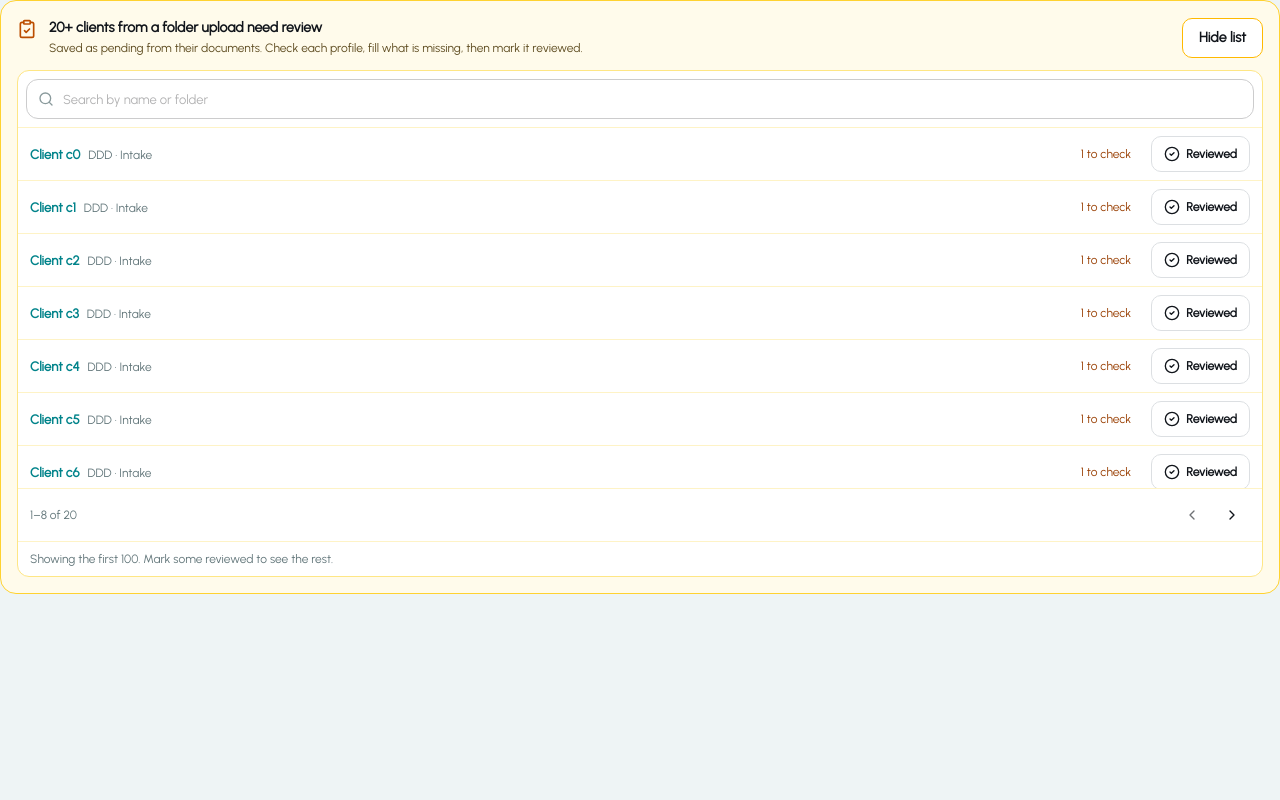
Test: a big batch is paged and searchable instead of one long list
Expected: the heading "20+ clients from a folder upload need review" is shown, [49, 19, 322, 36]
Expected: the text "1–8 of 20" is shown, [30, 506, 77, 524]
Click the button named "Next page": (1232, 515) [1214, 497, 1250, 533]
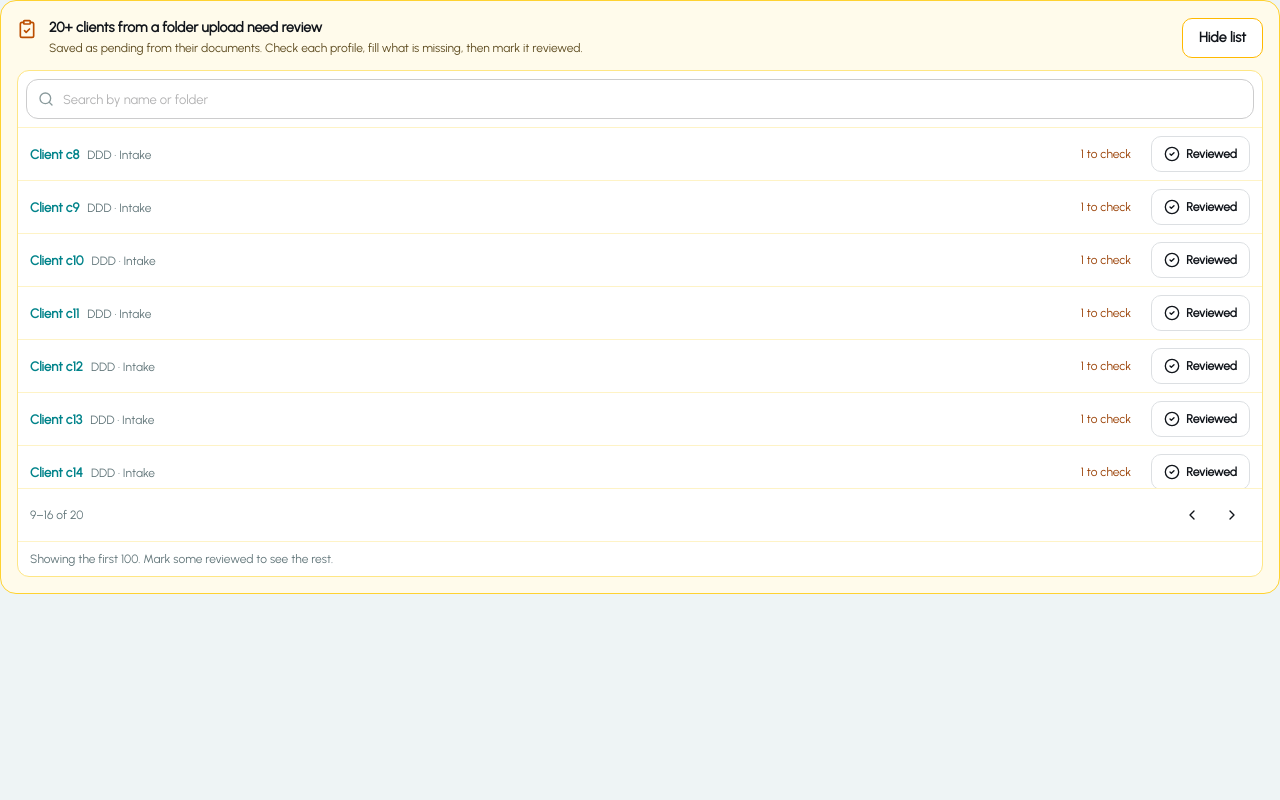
Expected: the text "9–16 of 20" is shown, [30, 506, 83, 524]
Expected: the link "Client c8" is shown, [30, 147, 79, 162]
In the field with placeholder "Search by name or folder": (640, 99) [26, 79, 1254, 119], type "c19"
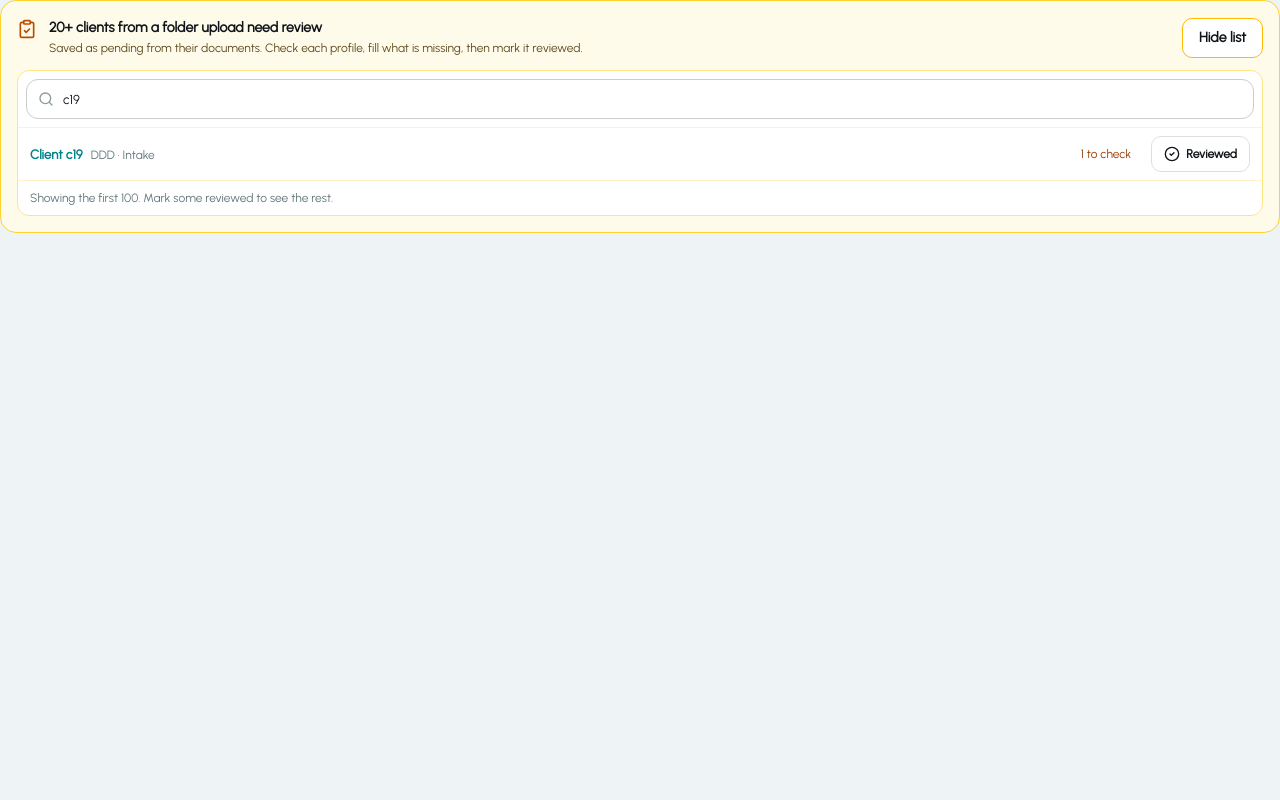
Expected: the number of buttons "Reviewed" is 1, [1151, 136, 1250, 172]
Replace the text in the field with placeholder "Search by name or folder" with "zzz": (640, 99) [26, 79, 1254, 119]
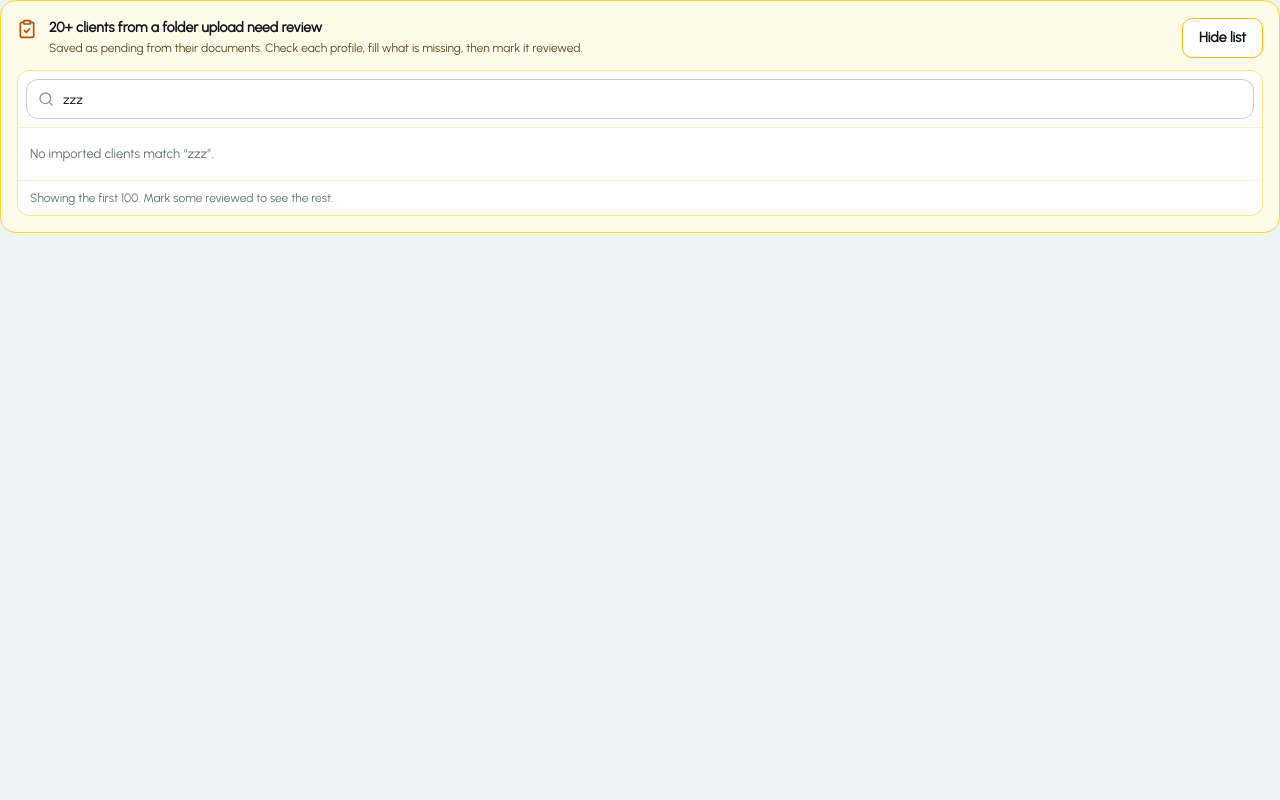
Expected: the text "No imported clients match “zzz”." is shown, [30, 146, 214, 161]
